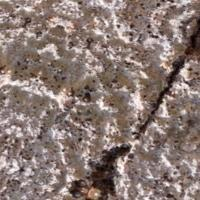crack: (83, 12, 199, 199)
